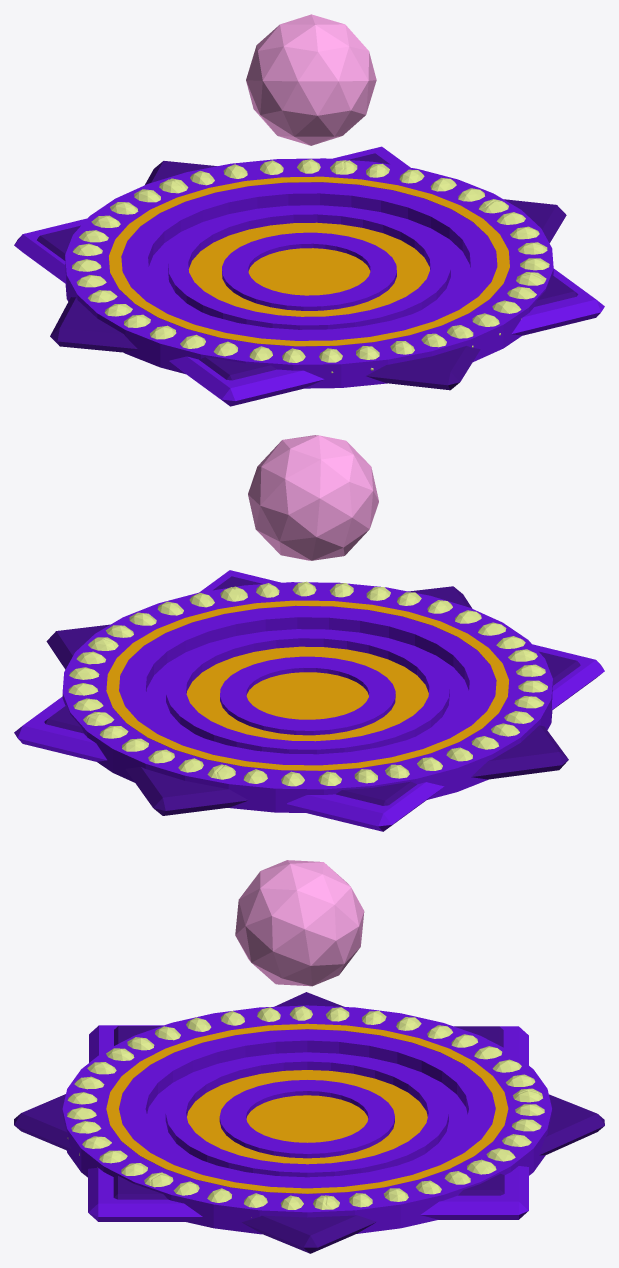
Rendered from Plate.fbx.
3 views of the same model, one above another, from view 1: azimuth 30°, elevation 25°; view 2: azimuth 150°, elevation 25°; view 3: azimuth 270°, elevation 25° (orthographic).
Parts seen in each view (by area): view 1: Cylinder.016, Cylinder.017, Icosphere.004, Icosphere.003, Cube.048, Cube.058, Cube.055, Cube.050, Cube.047, Cube.056, Cube.054, Cube.057 (+2 smaller); view 2: Cylinder.016, Cylinder.017, Icosphere.004, Icosphere.003, Cube.047, Cube.057, Cube.055, Cube.049, Cube.048, Cube.056, Cube.053, Cube.054 (+2 smaller); view 3: Cylinder.016, Cylinder.017, Icosphere.004, Icosphere.003, Cube.056, Cube.050, Cube.049, Cube.057, Cube.058, Cube.052, Cube.047, Cube.048 (+2 smaller).
Part boxes in pixels (x1,y1,x2,y2): Cylinder.016: [65, 158, 553, 388]; Cylinder.017: [109, 176, 509, 346]; Icosphere.004: [246, 14, 376, 145]; Icosphere.003: [72, 159, 549, 373]; Cube.048: [169, 356, 324, 406]; Cube.058: [366, 346, 480, 390]; Cube.055: [50, 297, 137, 352]; Cube.050: [511, 268, 604, 335]; Cube.047: [14, 218, 87, 283]; Cube.056: [504, 199, 566, 243]; Cube.054: [199, 357, 276, 380]; Cube.057: [145, 161, 217, 184]; Cylinder.016: [62, 582, 552, 812]; Cylinder.017: [106, 600, 509, 770]; Icosphere.004: [248, 435, 378, 560]; Icosphere.003: [68, 581, 547, 786]; Cube.047: [286, 782, 444, 831]; Cube.057: [125, 767, 248, 815]; Cube.055: [471, 725, 568, 779]; Cube.049: [14, 696, 106, 761]; Cube.048: [532, 644, 604, 710]; Cube.056: [46, 624, 109, 669]; Cube.053: [336, 781, 416, 805]; Cube.054: [539, 651, 580, 685]; Cylinder.016: [62, 1005, 552, 1234]; Cylinder.017: [106, 1023, 508, 1193]; Icosphere.004: [235, 860, 364, 986]; Icosphere.003: [67, 1006, 544, 1217]; Cube.056: [242, 1215, 376, 1253]; Cube.050: [88, 1168, 202, 1221]; Cube.049: [421, 1166, 528, 1219]; Cube.057: [539, 1094, 604, 1155]; Cube.058: [14, 1094, 71, 1150]; Cube.052: [113, 1175, 167, 1199]; Cube.047: [500, 1026, 528, 1065]; Cube.048: [89, 1025, 163, 1062].
Bounding box in the file's own units: 241 × 121 × 241.
